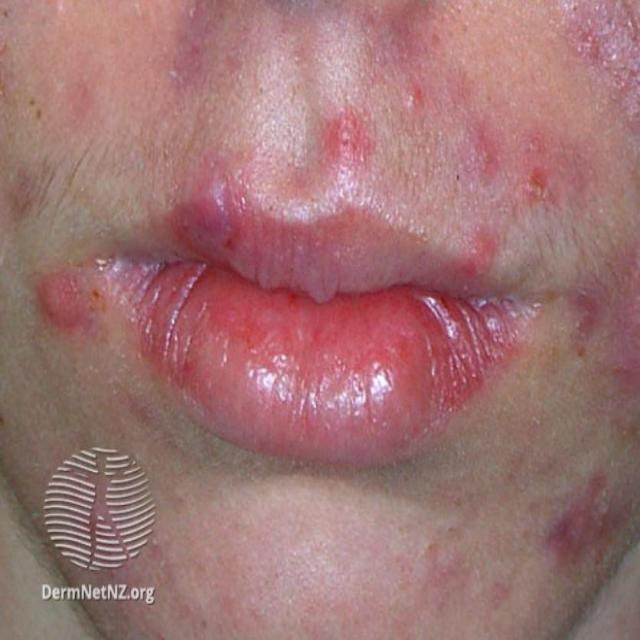8: (20, 239, 109, 388), (312, 104, 381, 187), (450, 128, 506, 222)
dark spot: (399, 518, 467, 584)
